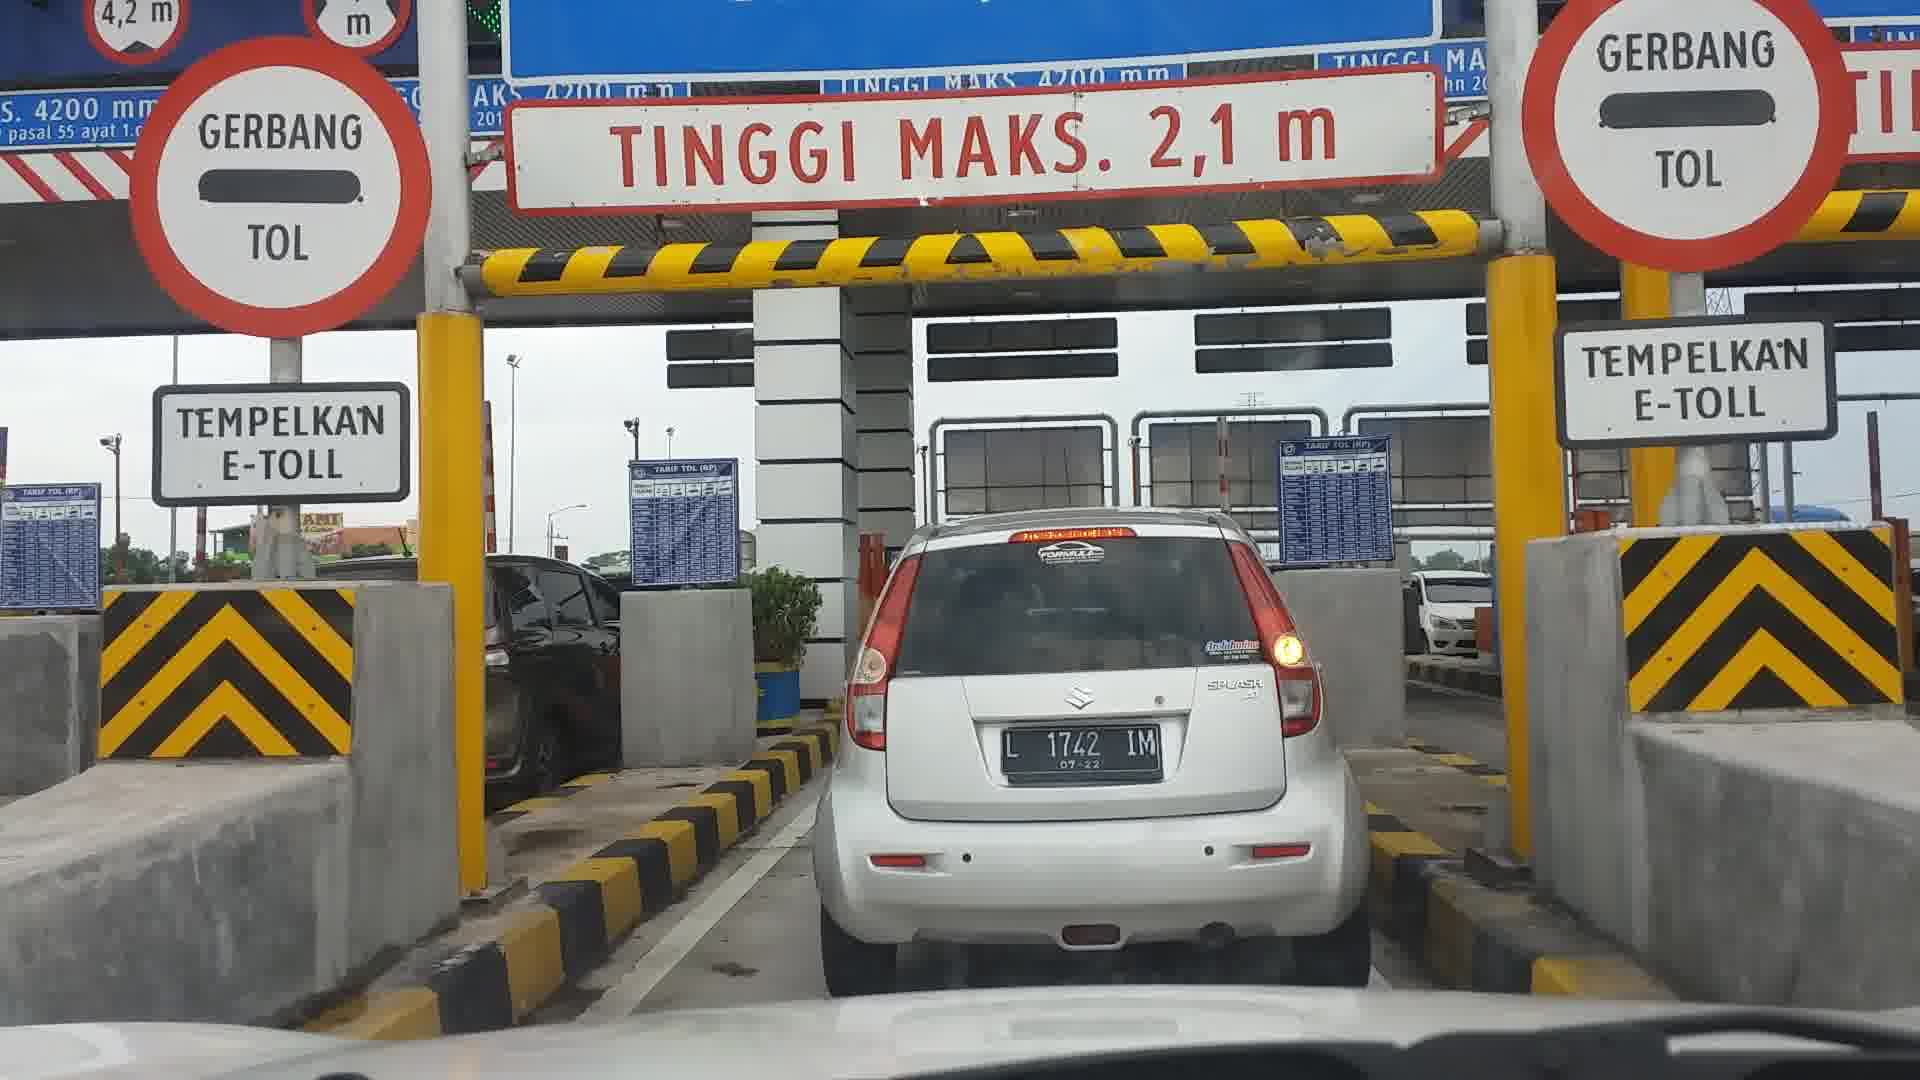plate_positive: (1000, 724, 1162, 785)
